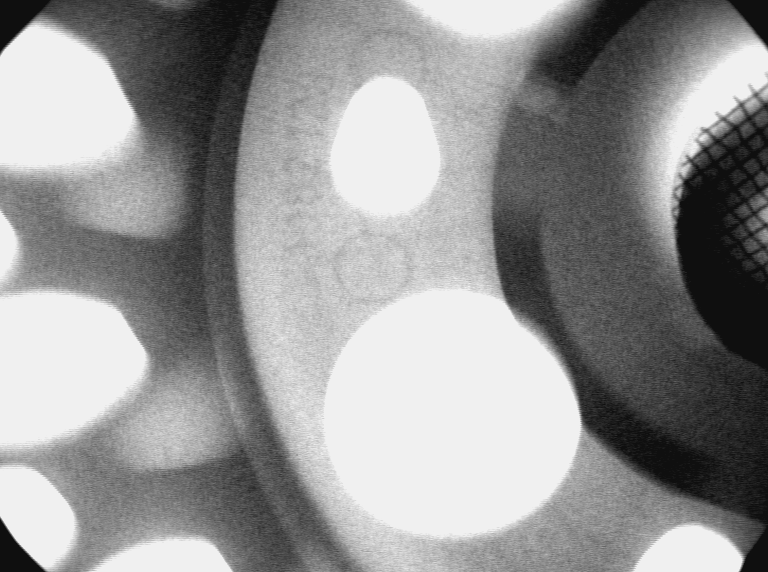defect: (515, 72, 572, 124)
